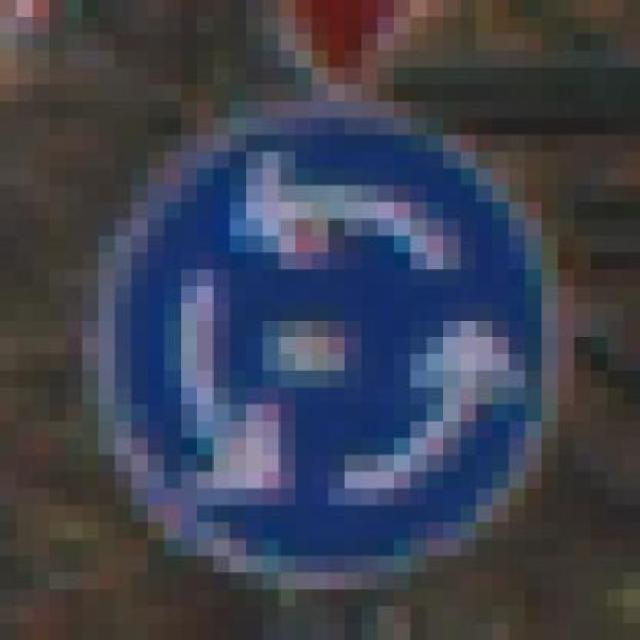Round-About: (49, 101, 608, 607)
